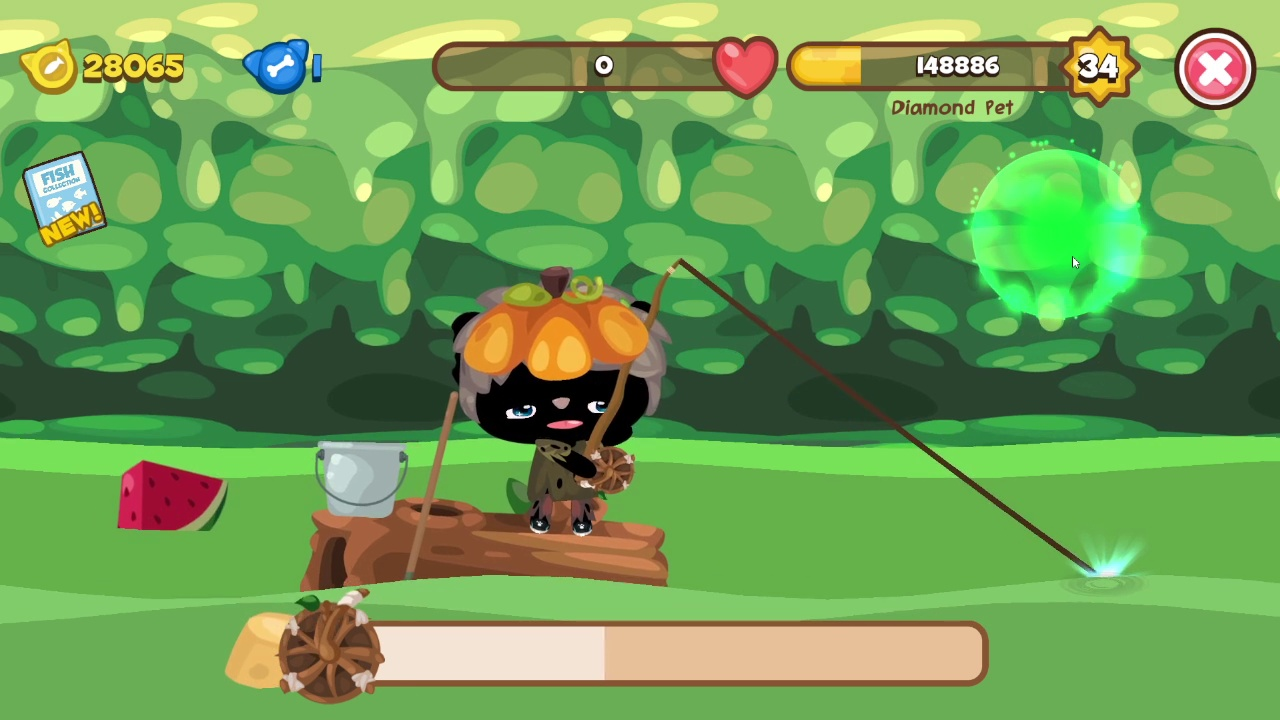point: (972, 148, 1145, 325)
